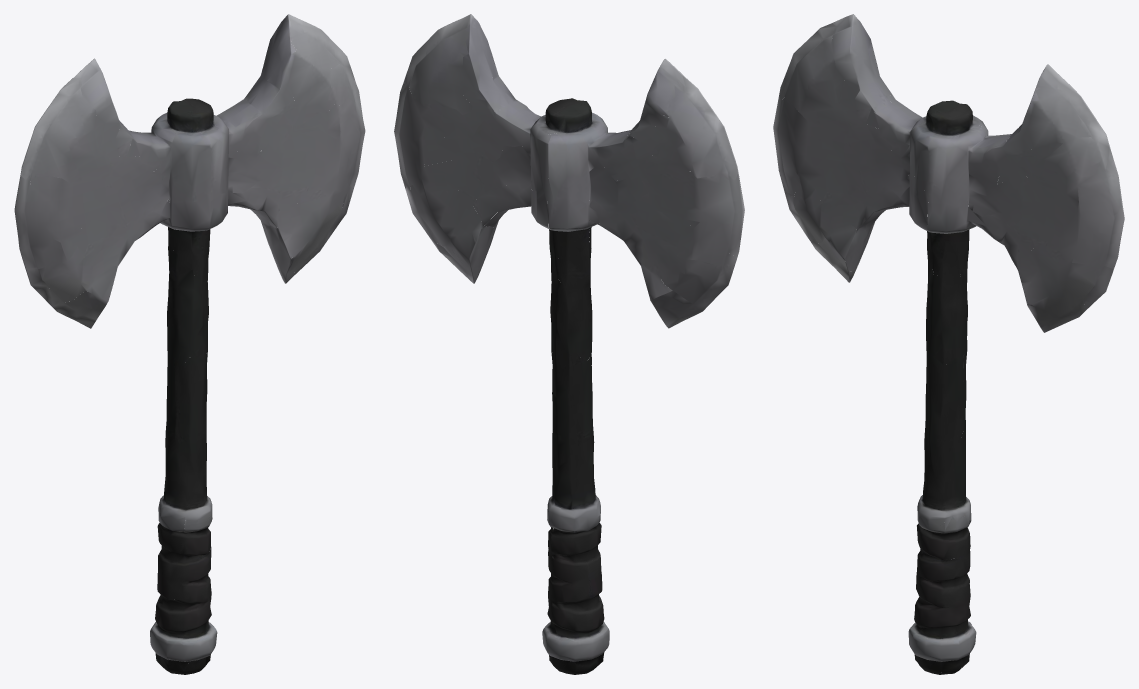
The model's file is Arm_great_axe-q2_zydso.glb.
3 renders of one model, left to right at view 1: azimuth 30°, elevation 25°; view 2: azimuth 150°, elevation 25°; view 3: azimuth 330°, elevation 25°, orthographic.
Visible parts, largest first — view 1: Arm_great_axe; view 2: Arm_great_axe; view 3: Arm_great_axe.
Boxes of the visible parts, left/top/right/bottom form: Arm_great_axe: left=14, top=14, right=365, bottom=674; Arm_great_axe: left=394, top=14, right=744, bottom=674; Arm_great_axe: left=773, top=14, right=1124, bottom=674.
Bounding box in the file's own units: 1.19 × 2.05 × 0.2462.
Materials: 1 (1 with a texture image).
